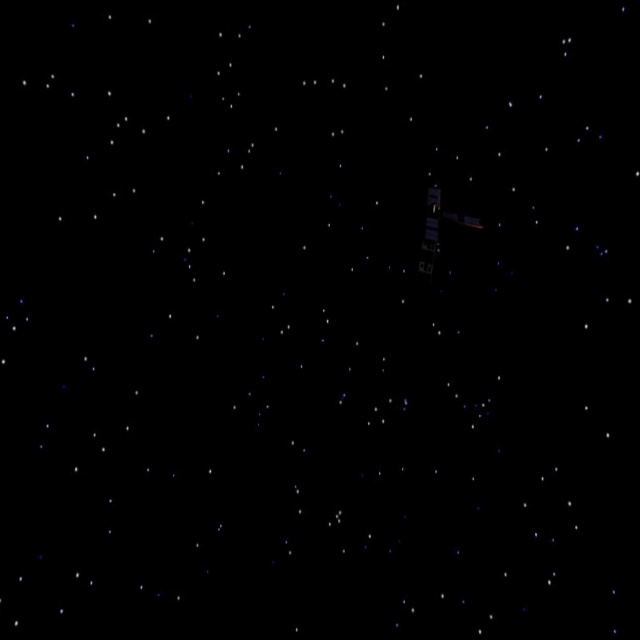medium_debris: (404, 175, 497, 290)
